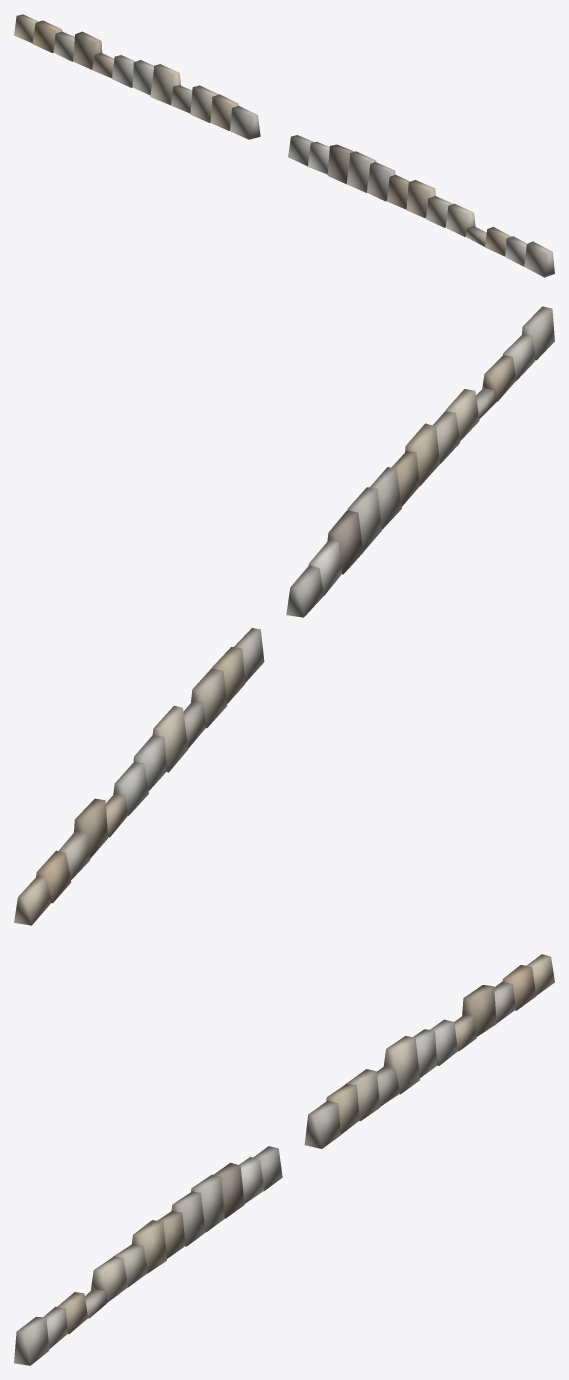
The model's file is farm_6_15_far.glb.
3 views of the same model, one above another, from view 1: azimuth 30°, elevation 25°; view 2: azimuth 150°, elevation 25°; view 3: azimuth 330°, elevation 25° (orthographic). The views are drawn at different scales.
Visible parts, largest first — view 1: geometry_0; view 2: geometry_0; view 3: geometry_0.
Boxes of the visible parts, x1=… form: geometry_0: x1=14, y1=14, x2=554, y2=277; geometry_0: x1=14, y1=306, x2=554, y2=925; geometry_0: x1=14, y1=954, x2=554, y2=1365.
Size of the model in its own units: 4.56 by 4.85 by 41.58.
